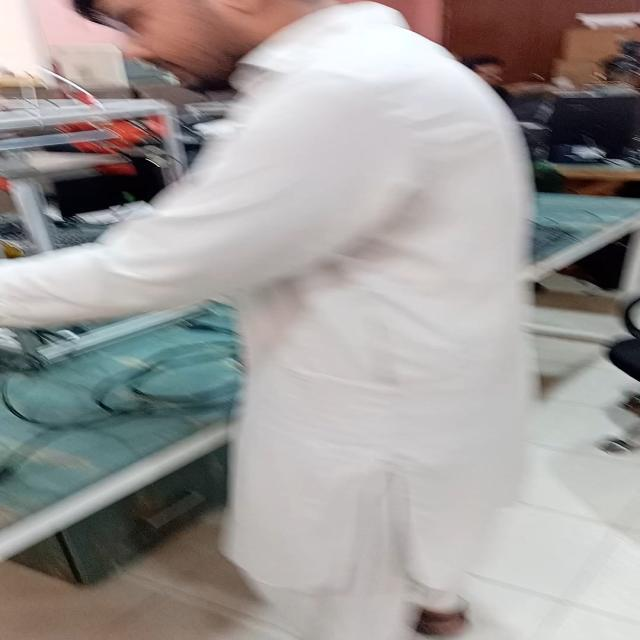dress: (6, 2, 547, 635)
